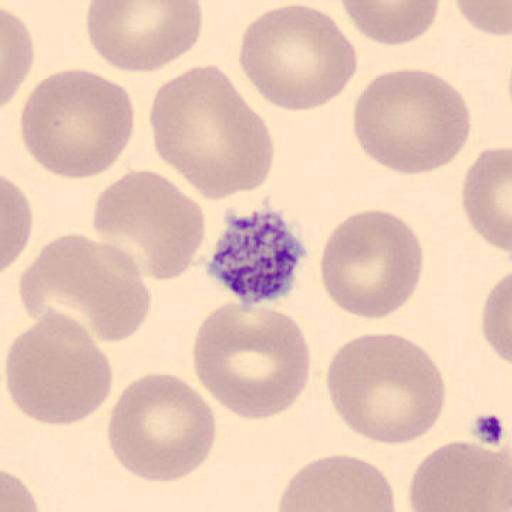Platelet: (204, 206, 308, 307)
RBC: (148, 64, 276, 202), (19, 232, 153, 346), (190, 299, 313, 422), (325, 331, 447, 446), (237, 1, 360, 113), (19, 66, 136, 180), (351, 66, 472, 176), (90, 168, 206, 282), (106, 371, 218, 485), (5, 309, 114, 426), (318, 207, 424, 321), (85, 1, 205, 74), (407, 438, 512, 512), (276, 453, 398, 512), (461, 144, 512, 255), (339, 0, 442, 45), (1, 6, 35, 108), (480, 269, 512, 369), (1, 174, 33, 273), (453, 0, 512, 38), (0, 469, 40, 512)
